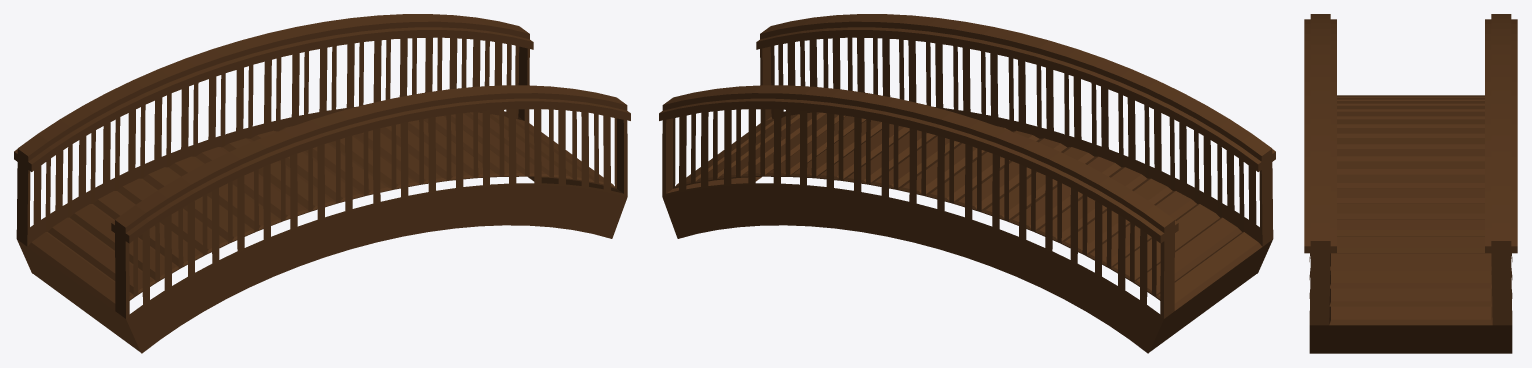
Rendered from bridge.fbx.
3 views of the same model, side by side, from view 1: azimuth 30°, elevation 25°; view 2: azimuth 150°, elevation 25°; view 3: azimuth 270°, elevation 25° (orthographic). The views are drawn at different scales.
Parts seen in each view (by area): view 1: Cube; view 2: Cube; view 3: Cube.
Part boxes in pixels (x1,y1,x2,y2): Cube: [14, 14, 630, 353]; Cube: [659, 14, 1275, 353]; Cube: [1304, 14, 1517, 353].
Bounding box in the file's own units: 530 × 185 × 211.
